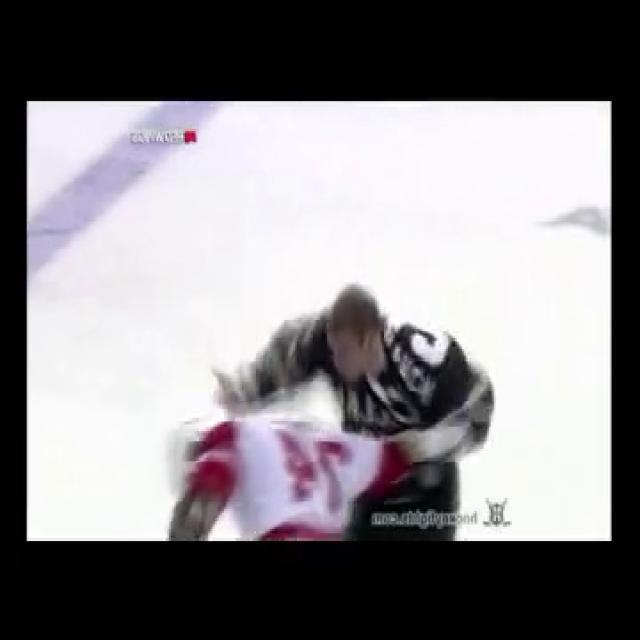violence: (165, 284, 494, 540)
